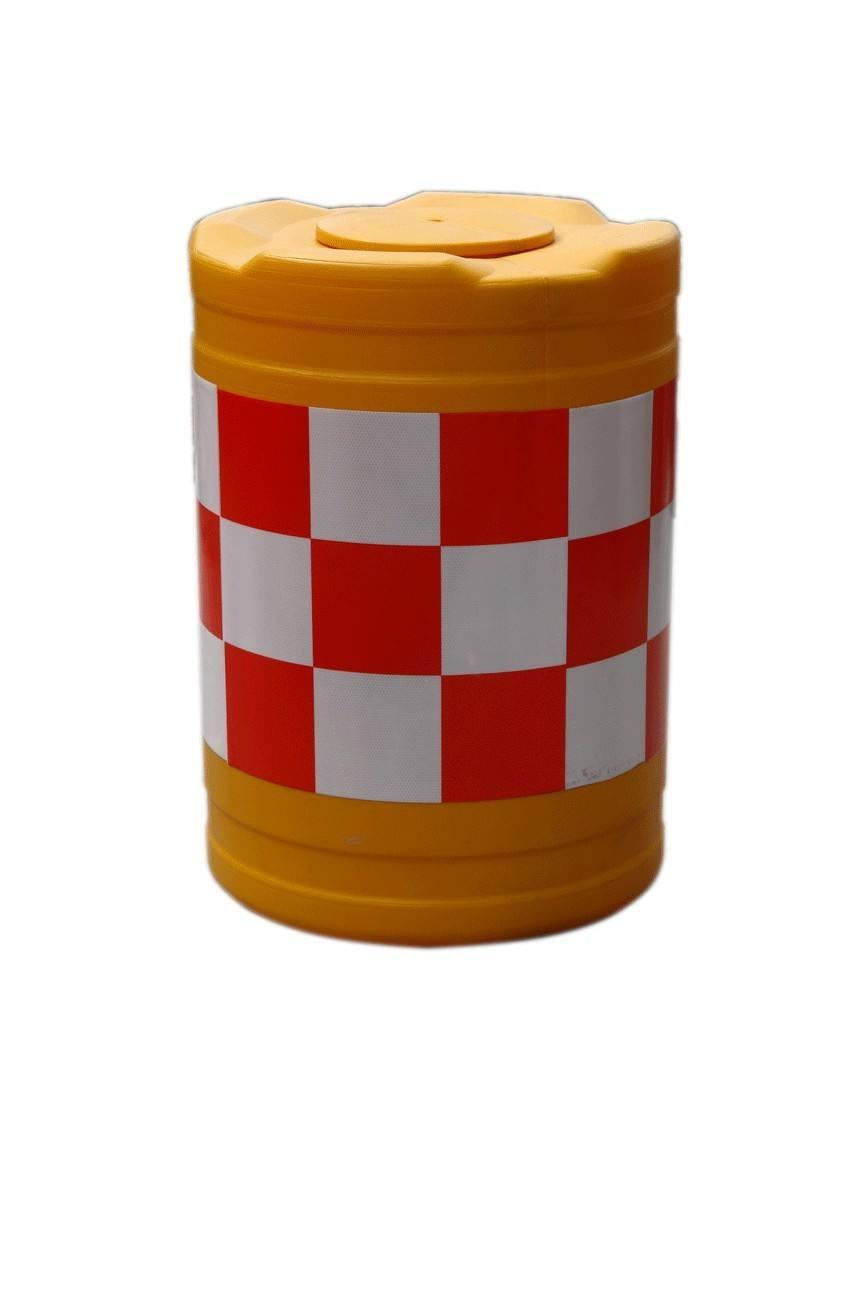sign: (161, 162, 691, 957)
